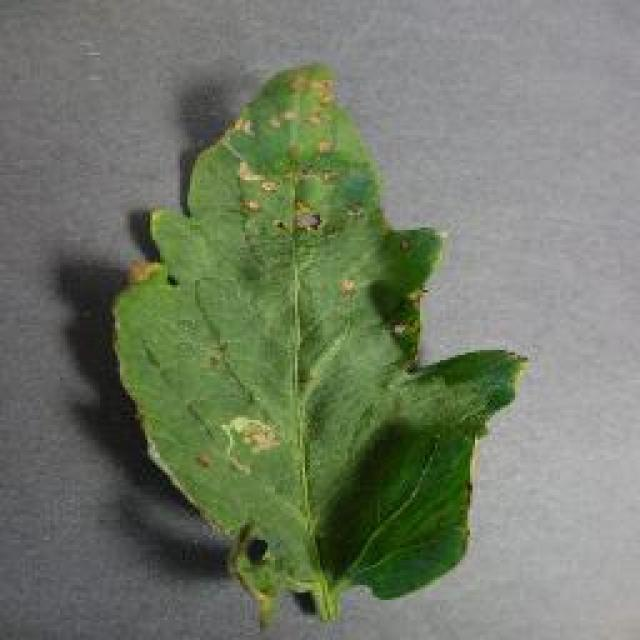Tomato bacterial spot leaf: (108, 59, 527, 604)
